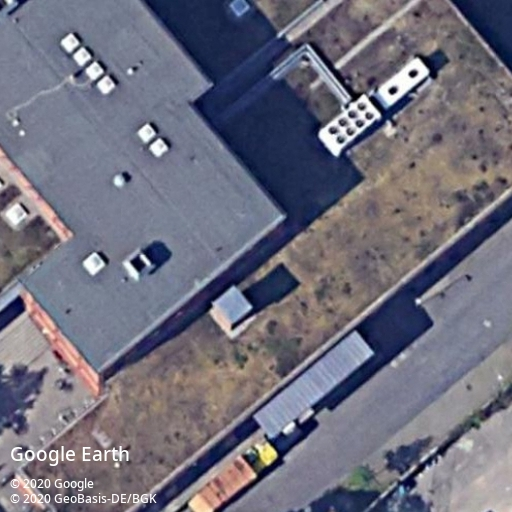Chiller: (317, 93, 382, 158), (376, 57, 431, 107)
